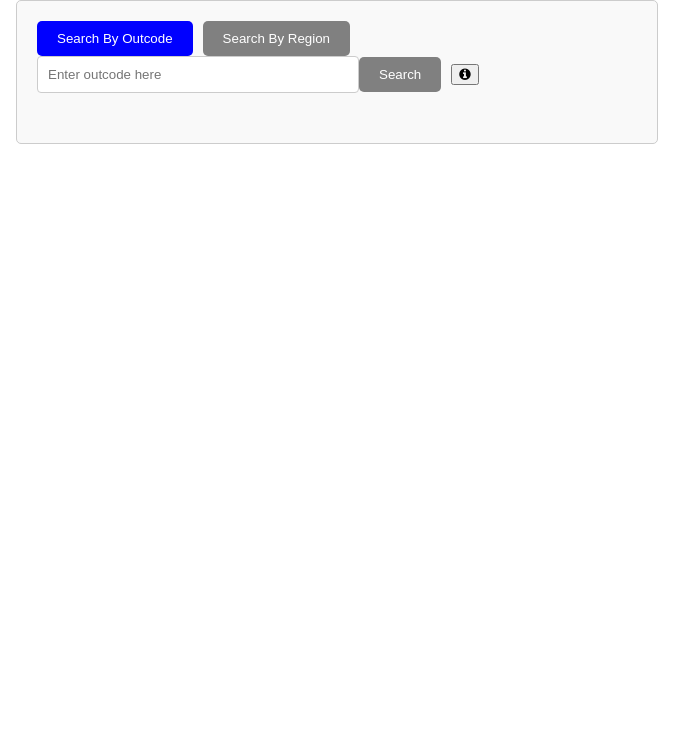
Test: SearchComponent › should fetch region data
Click the button "Search By Region" at {"x": 276, "y": 38}, box [203,21,350,56]
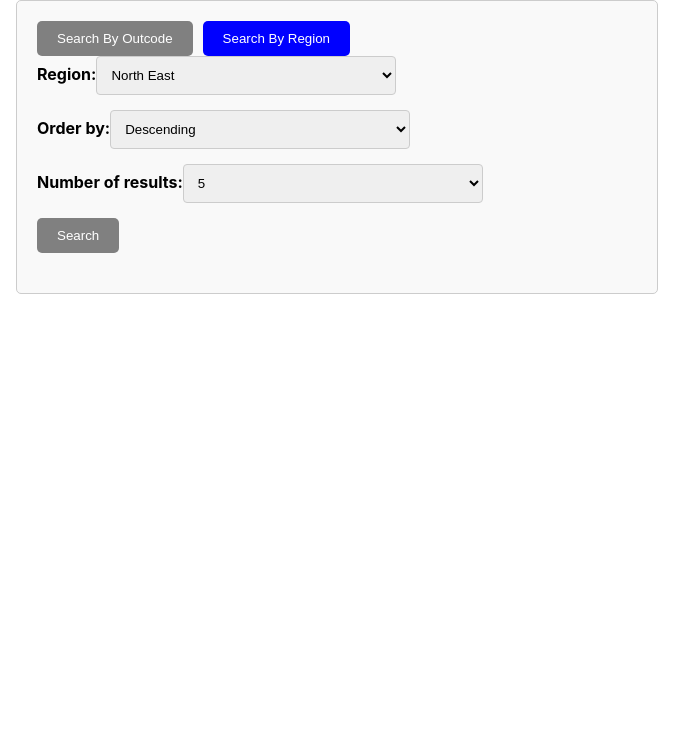
Select "South East" in the dropdown labelled "Region:" at {"x": 246, "y": 76}, box [96,56,396,95]
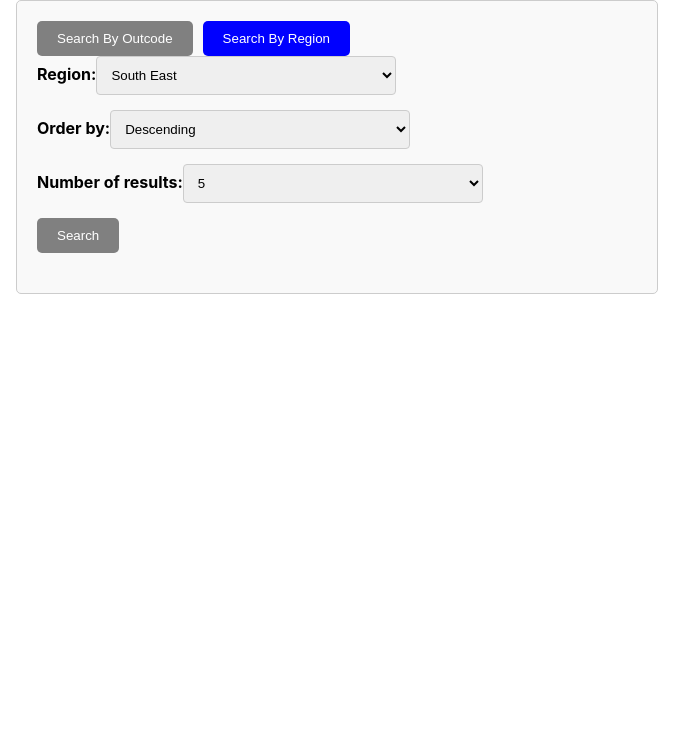
Select "5" in the dropdown labelled "Order by:" at {"x": 260, "y": 130}, box [110,110,410,149]
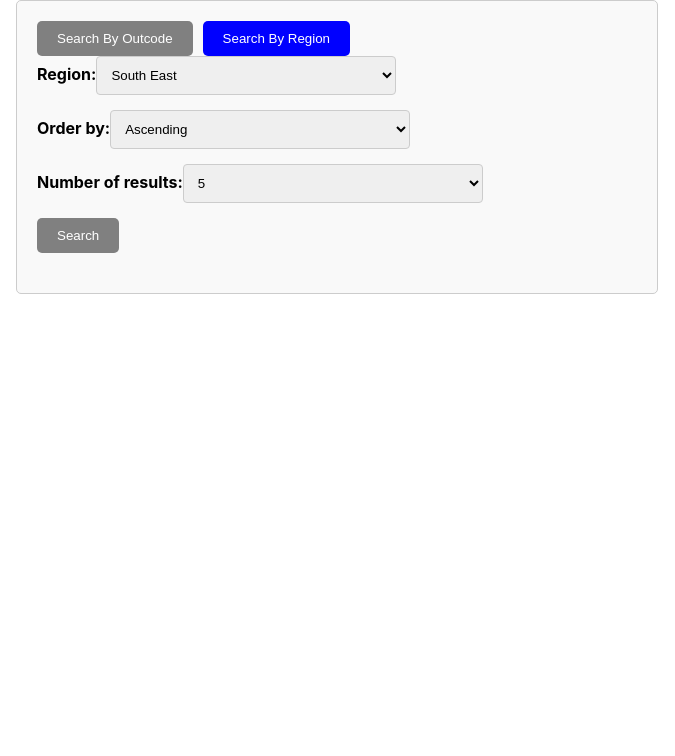
Select "asc" in the dropdown labelled "Number of results:" at {"x": 333, "y": 184}, box [183,164,483,203]
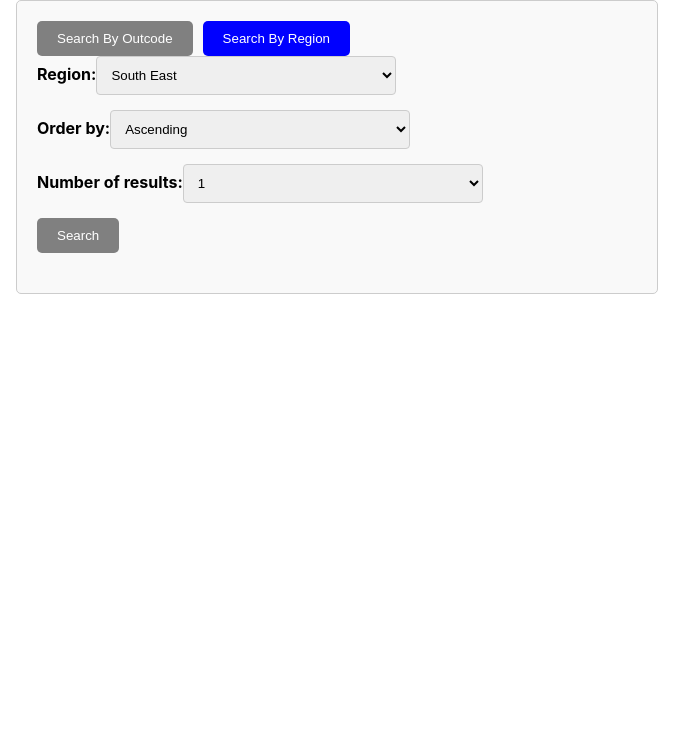
Click the button "Search" at {"x": 78, "y": 236}, box [37,218,119,253]
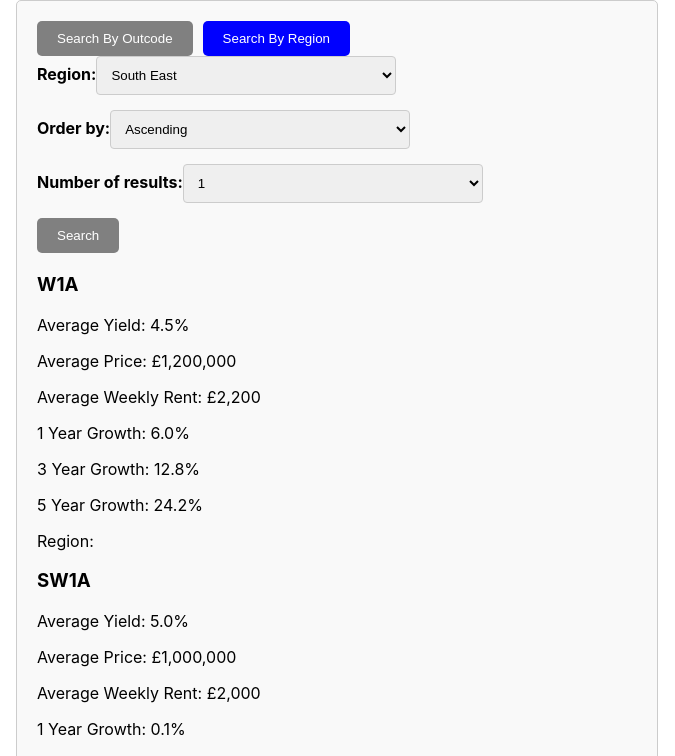
Now the heading "SW1A" is shown, box [37,569,91,592]
Now the heading "W1A" is shown, box [37,273,78,296]
Now the text "3 Year Growth: 12.8%" is shown, box [37,459,200,479]
